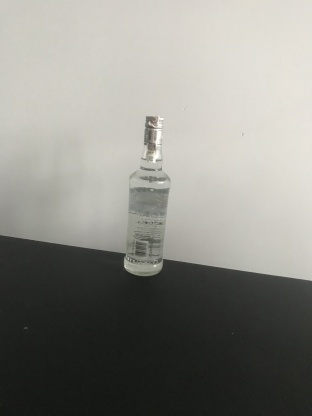nakretka: (142, 114, 164, 149)
